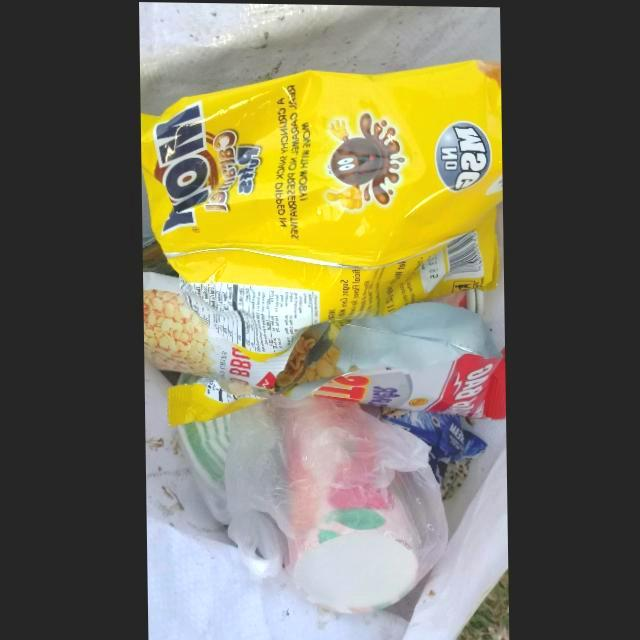food_wrapper: (141, 59, 503, 357), (143, 270, 506, 419)
